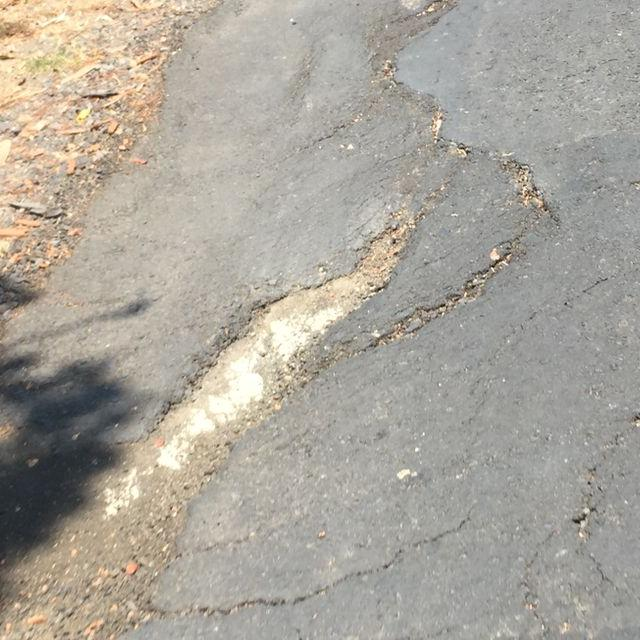retak_memanjang: (356, 0, 556, 373)
